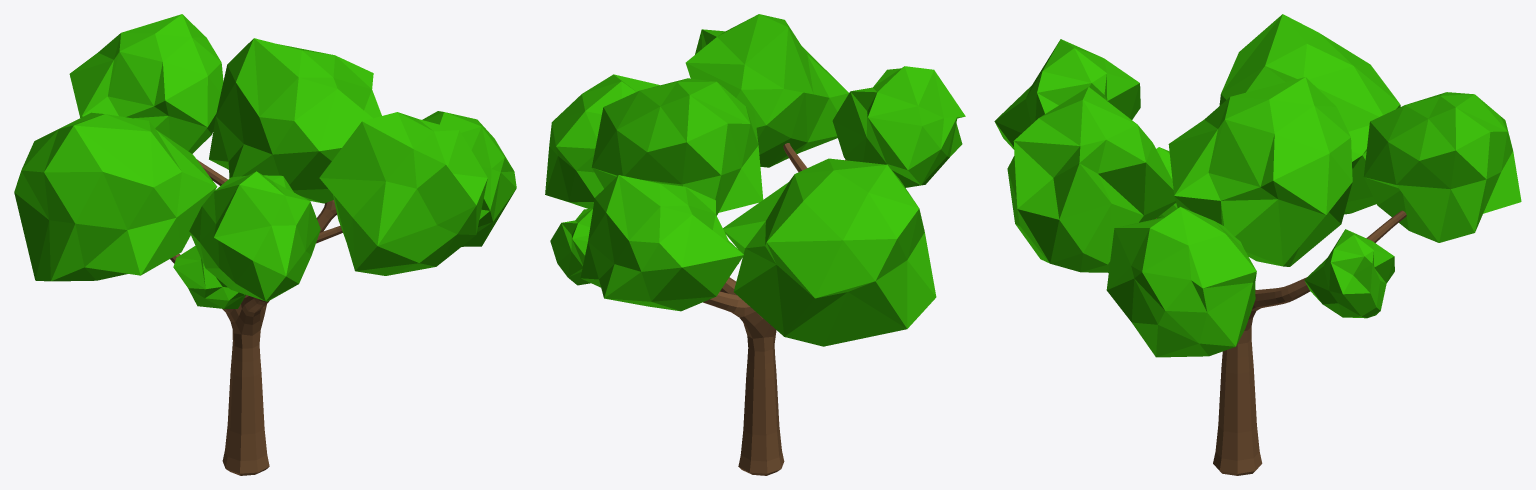
The model's file is Tree3.glb.
3 renders of one model, left to right at view 1: azimuth 30°, elevation 25°; view 2: azimuth 150°, elevation 25°; view 3: azimuth 270°, elevation 25°, orthographic. The views are drawn at different scales.
Parts seen in each view (by area): view 1: Plane; view 2: Plane; view 3: Plane.
Boxes of the visible parts, x1,y1,x2,y2 form: Plane: (14, 14, 516, 475); Plane: (545, 14, 965, 475); Plane: (994, 14, 1521, 475).
Size of the model in its own units: 11.79 by 10.64 by 12.31.
